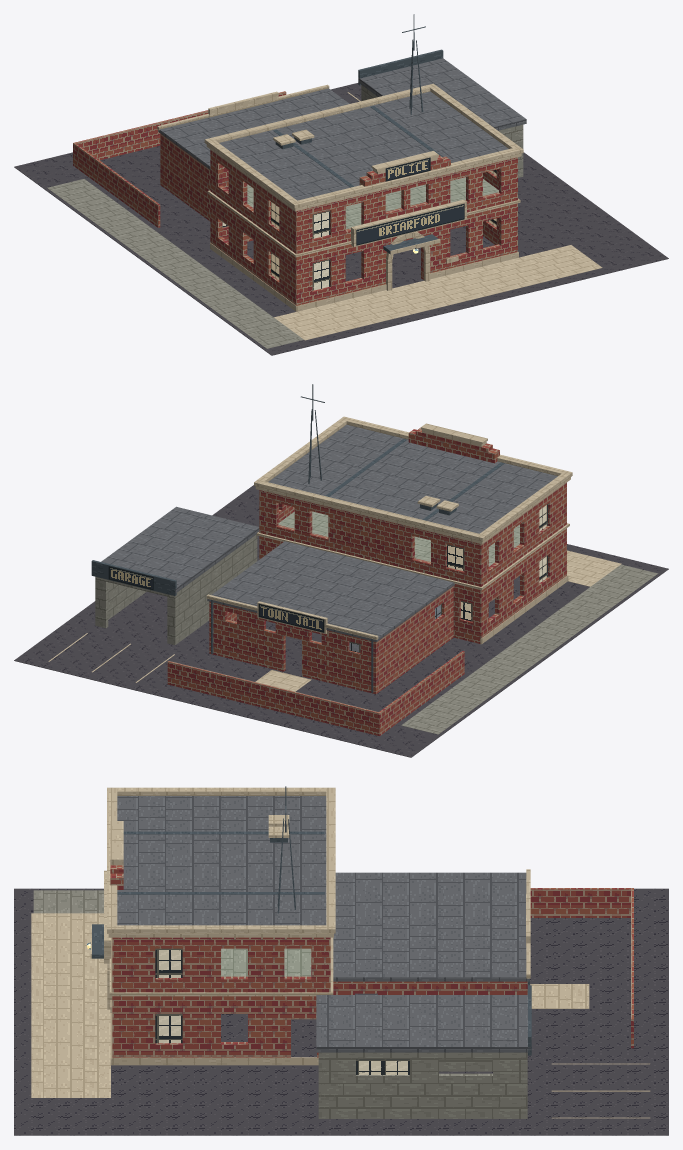
File: briarford-1940-far.glb
3 renders of one model, top to bottom at view 1: azimuth 30°, elevation 25°; view 2: azimuth 150°, elevation 25°; view 3: azimuth 270°, elevation 25°, orthographic. The views are drawn at different scales.
Parts seen in each view (by area): view 1: shell, lot, yard_fence, sign_name; view 2: shell, lot, yard_fence; view 3: shell, lot, yard_fence.
Boxes of the visible parts, box(x1,y1,x2,y2) form: shell: box(157, 49, 526, 311); lot: box(14, 83, 668, 355); yard_fence: box(73, 91, 286, 227); sign_name: box(356, 203, 464, 245); shell: box(91, 416, 572, 694); lot: box(14, 485, 668, 757); yard_fence: box(167, 651, 464, 735); shell: box(87, 787, 531, 1118); lot: box(14, 888, 668, 1135); yard_fence: box(530, 888, 633, 1048).
Bounding box in the file's own units: 26.7 × 13 × 30.
Materials: 11 (11 with a texture image).
